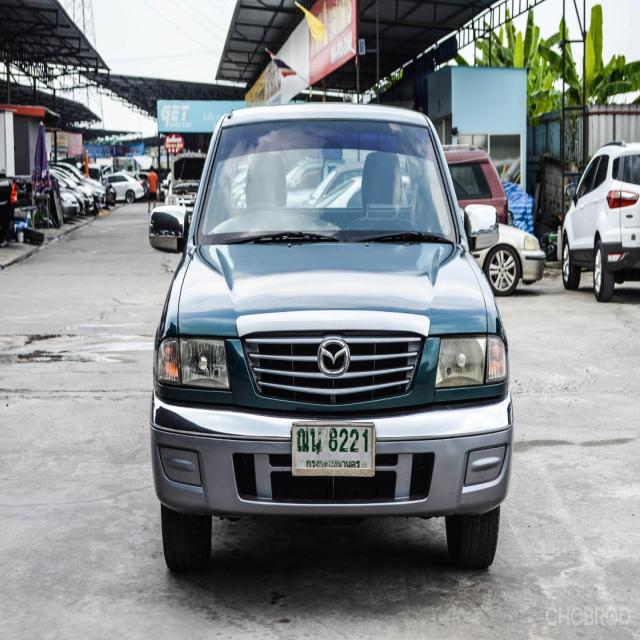license_plate: (291, 420, 376, 478)
